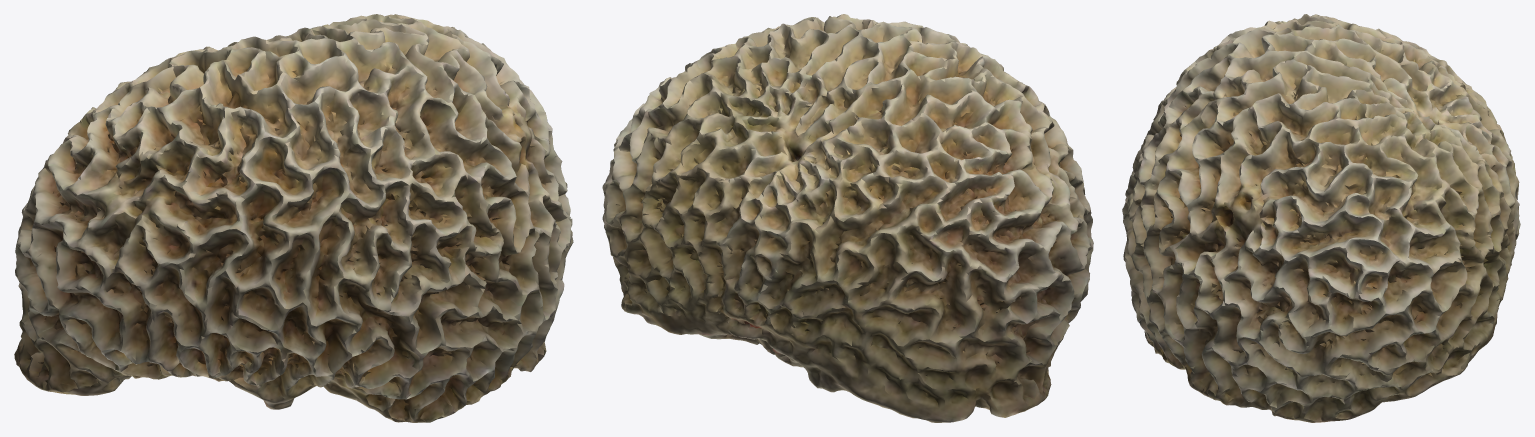
File: goniastrea_favulus.glb
3 renders of one model, left to right at view 1: azimuth 30°, elevation 25°; view 2: azimuth 150°, elevation 25°; view 3: azimuth 270°, elevation 25°, orthographic. The views are drawn at different scales.
Size of the model in its own units: 0.0912 by 0.0593 by 0.0718.
1 material, 1 textured.
